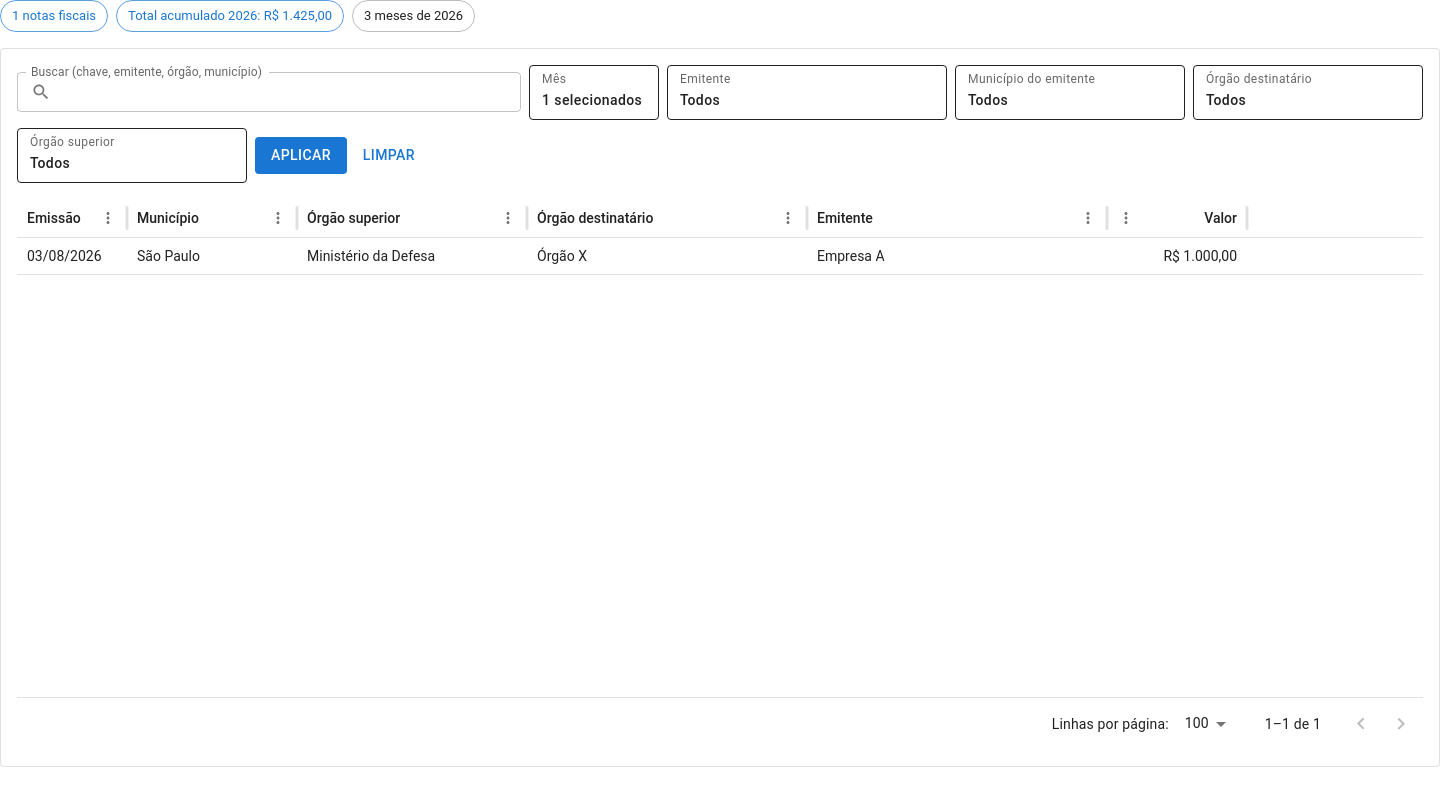
Test case: TabelaNotas › aplica busca por texto e consulta a API
The width and height of the screenshot is (1440, 810).
Type "exército" into the field labelled "Buscar (chave, emitente, órgão, município)" at (290, 92), box [59,72,521,112]
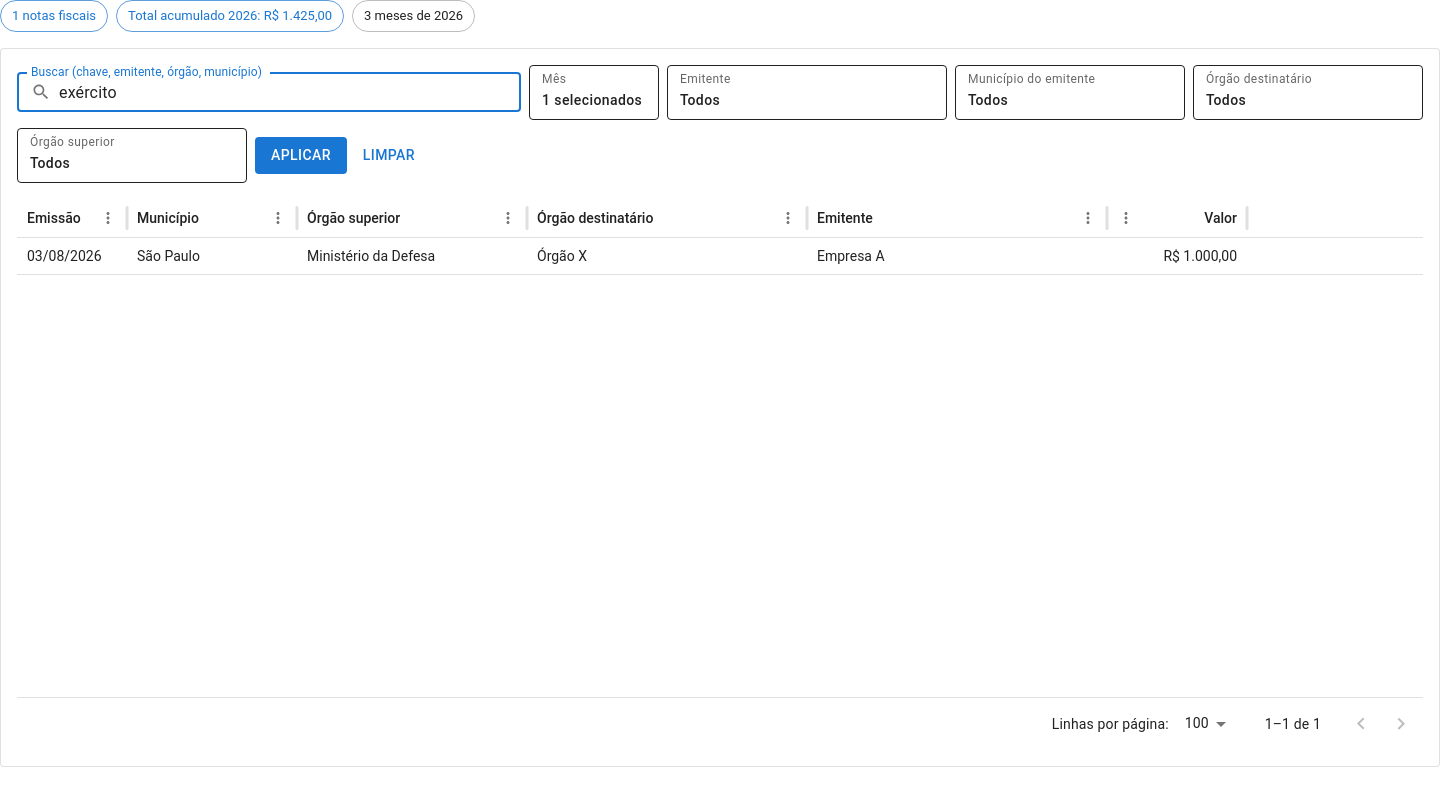
Click the button "Aplicar" at (301, 155), box [255,137,347,174]
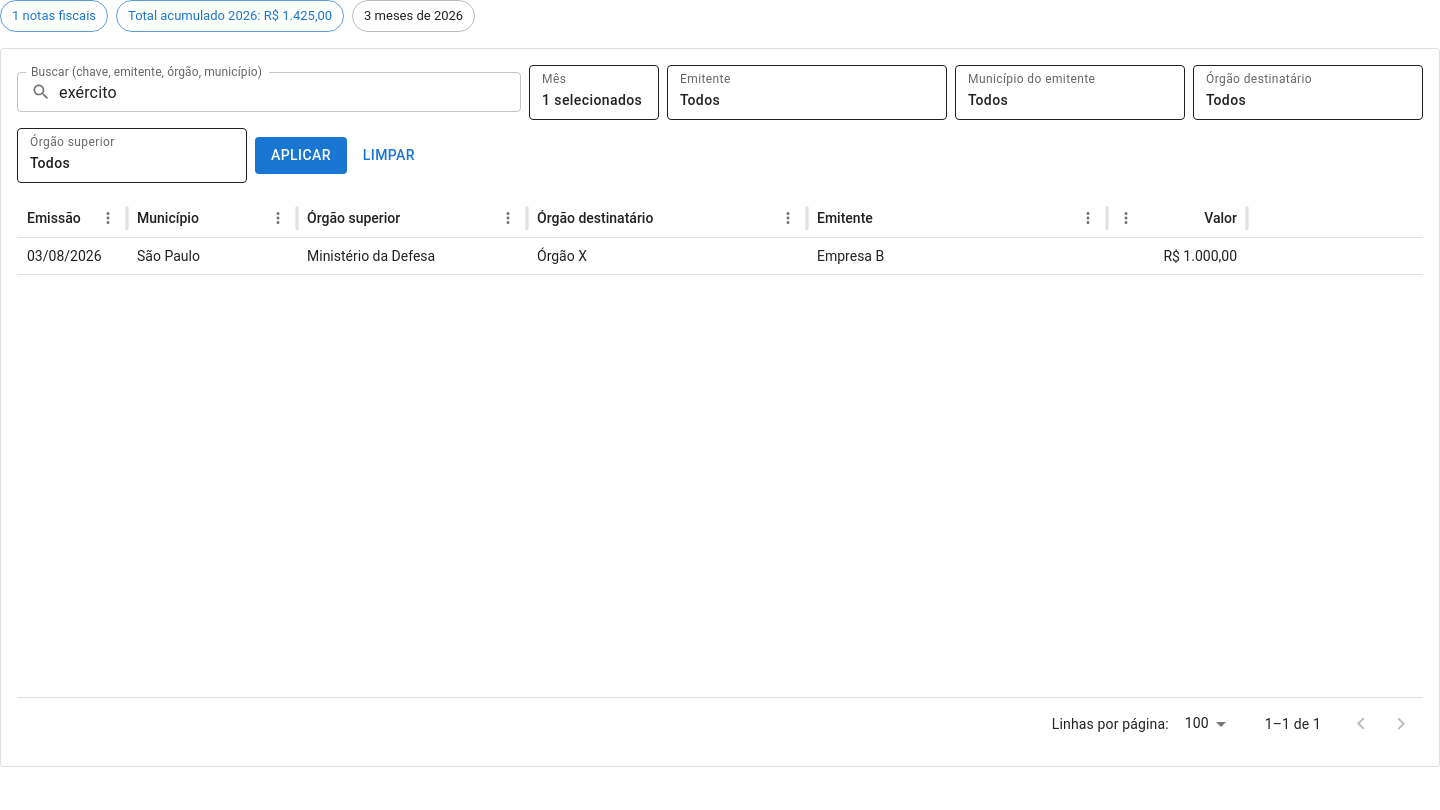
Check: the text "Empresa B" is shown, box [817,248,884,264]
